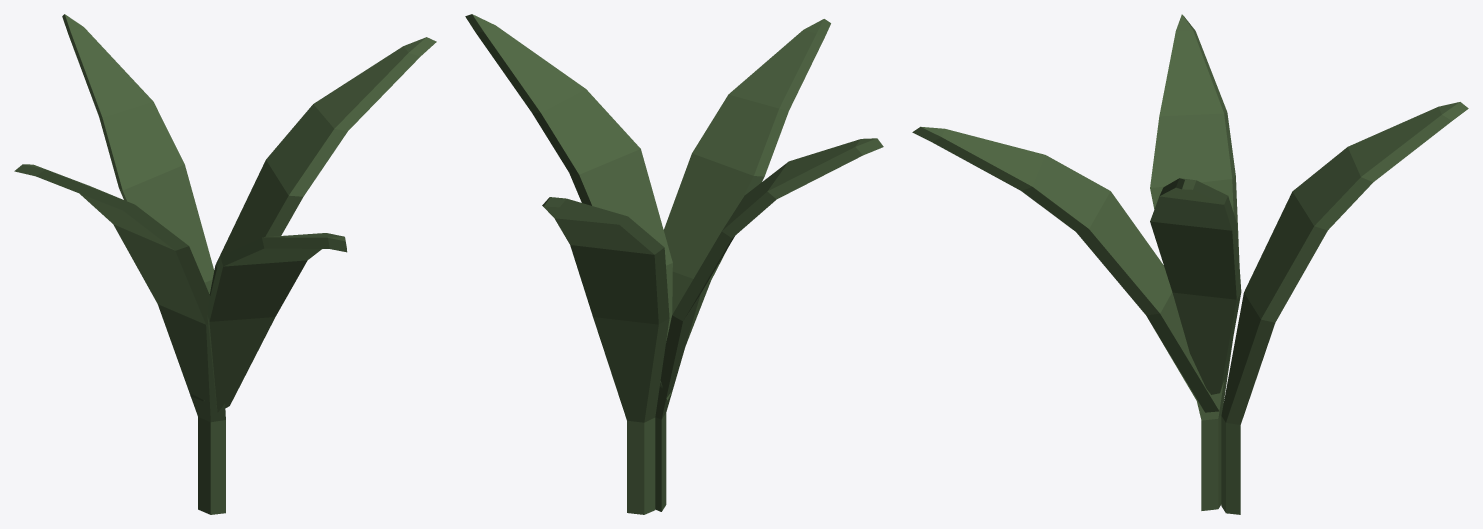
Rendered from PalmTree_1.gltf.
3 renders of one model, left to right at view 1: azimuth 30°, elevation 25°; view 2: azimuth 150°, elevation 25°; view 3: azimuth 270°, elevation 25°, orthographic. The views are drawn at different scales.
Parts seen in each view (by area): view 1: PalmTree_1; view 2: PalmTree_1; view 3: PalmTree_1.
Part boxes in pixels (left/top/right/bottom): PalmTree_1: left=14, top=14, right=436, bottom=514; PalmTree_1: left=465, top=14, right=883, bottom=514; PalmTree_1: left=912, top=14, right=1468, bottom=514.
Size of the model in its own units: 0.3551 by 0.3502 by 0.4184.
